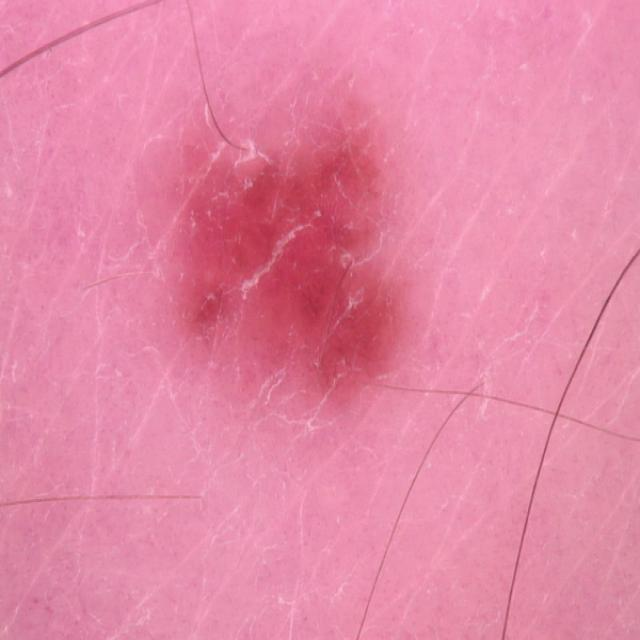NV: (164, 82, 413, 415)
